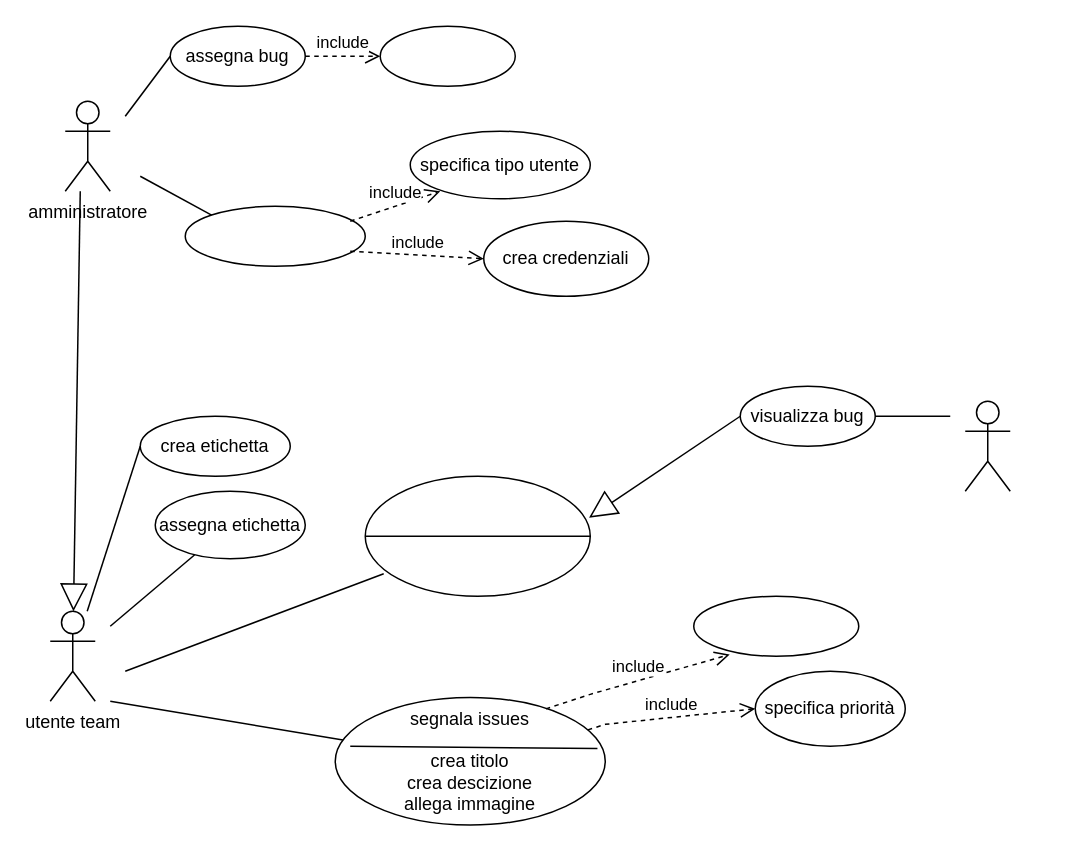
The diagram is 1071 pixels wide and 852 high, and some of its shapes have lost their labels. The centre of each missing label's shape, as x and y in pixels:
crea utente: (x=274, y=235)
invia notifica: (x=447, y=55)
stato dell'issue: (x=775, y=625)
utente esterno: (x=987, y=445)
visualizza issues filtra ordina: (x=477, y=535)
